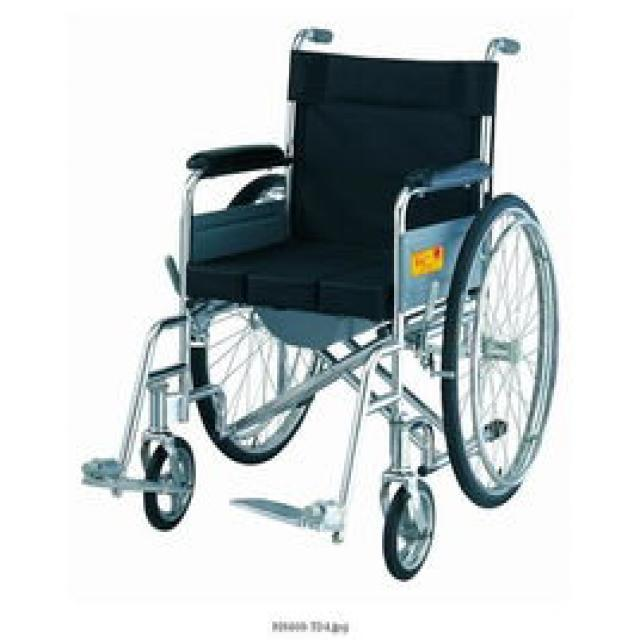wheelchair: (69, 16, 559, 606)
